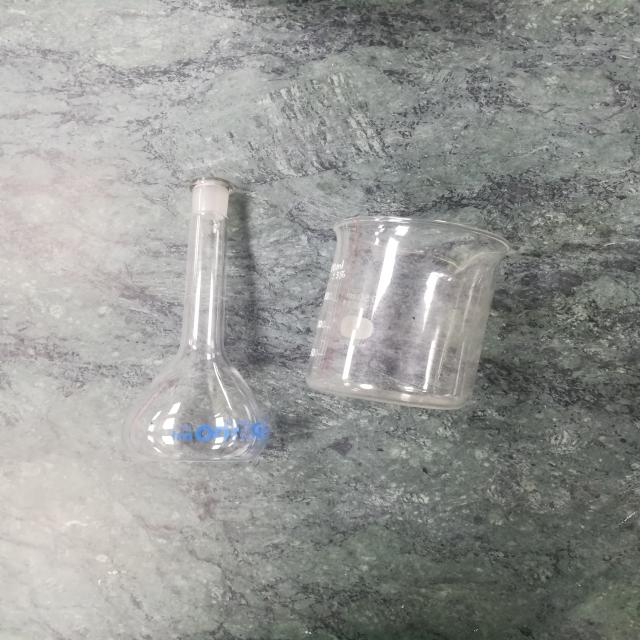Beaker: (299, 178, 523, 427)
Volumetric_Flask: (132, 136, 286, 474)
